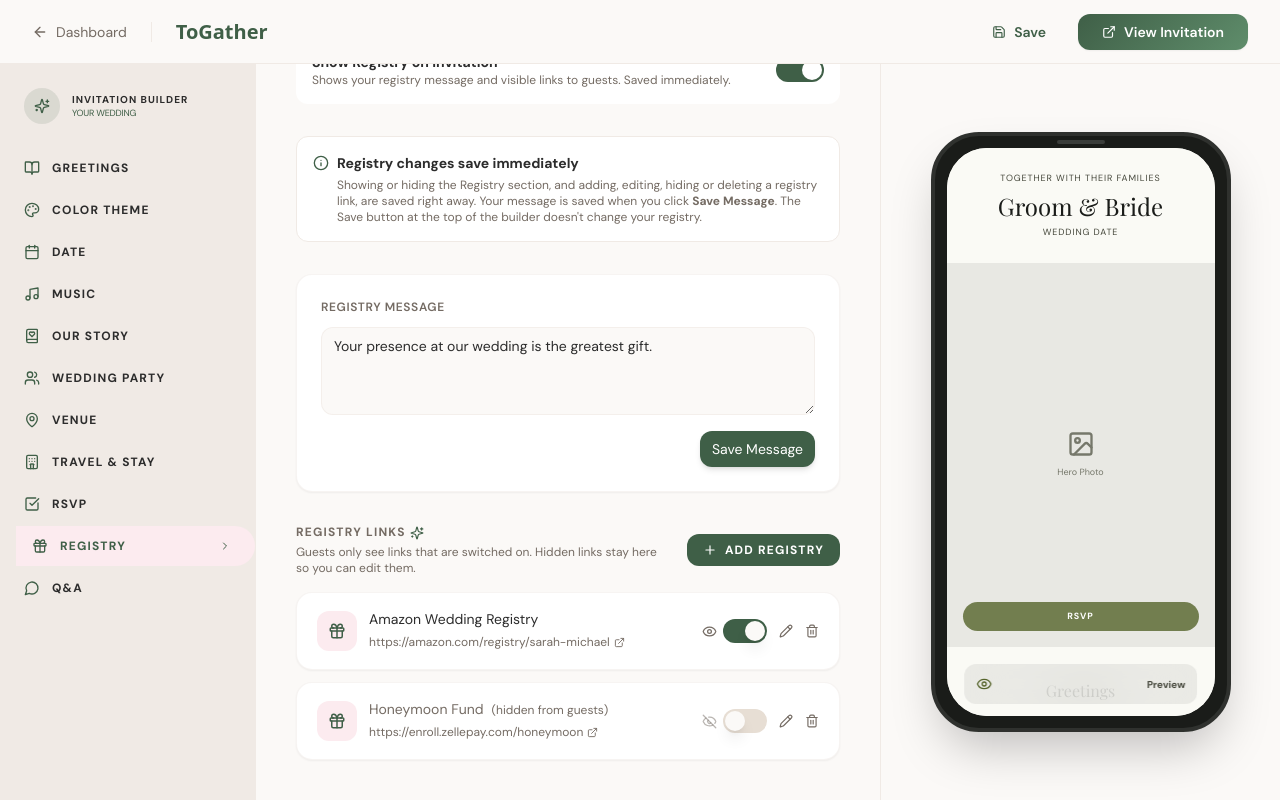
Registry tab — add/edit modal › a hidden link stays editable and opens with its switch off
(page scrolled)
Expected: the element that starts with "Registry" is shown, [256, 64, 880, 799]
Expected: the text "(hidden from guests)" is shown, [492, 702, 608, 718]
Click the button named "Edit Honeymoon Fund" at (786, 721), box [779, 714, 793, 728]
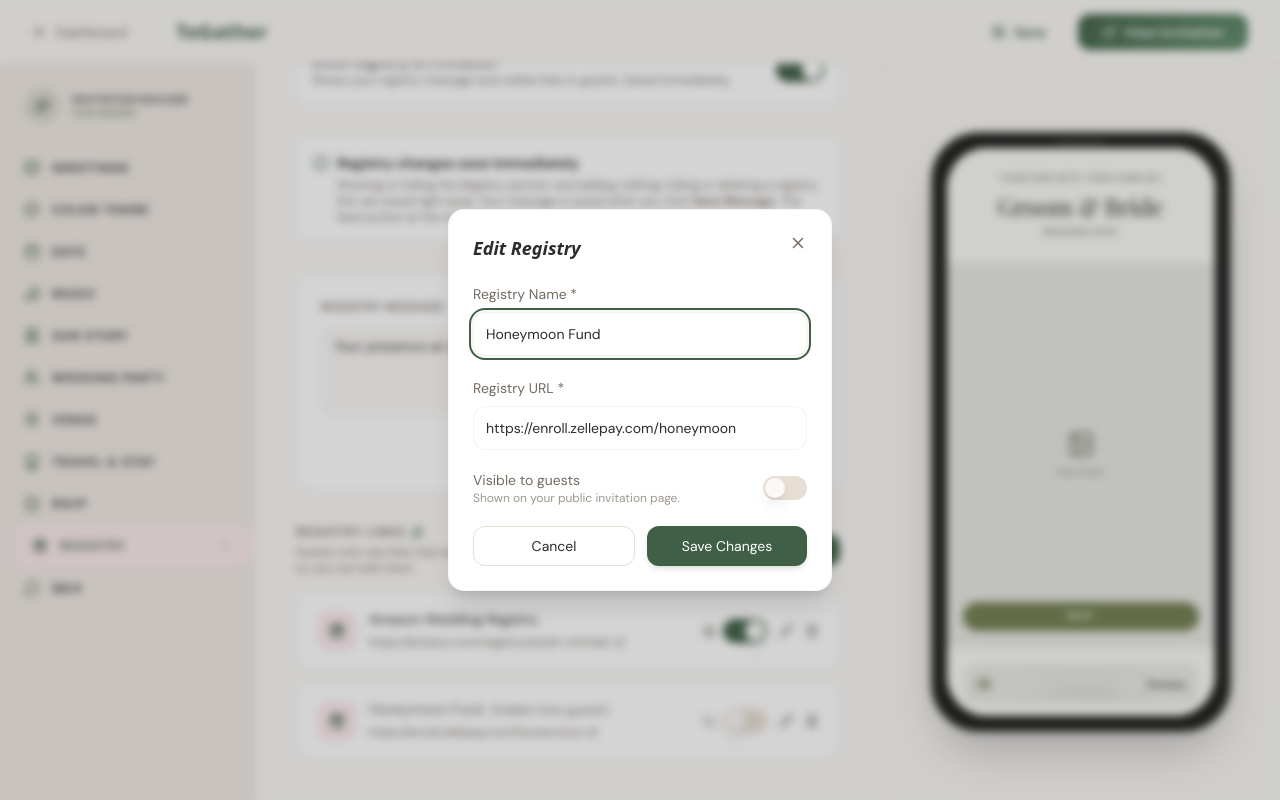
Result: the field with placeholder "e.g. Amazon Wedding Registry" holds "Honeymoon Fund" at [473, 312, 807, 356]
